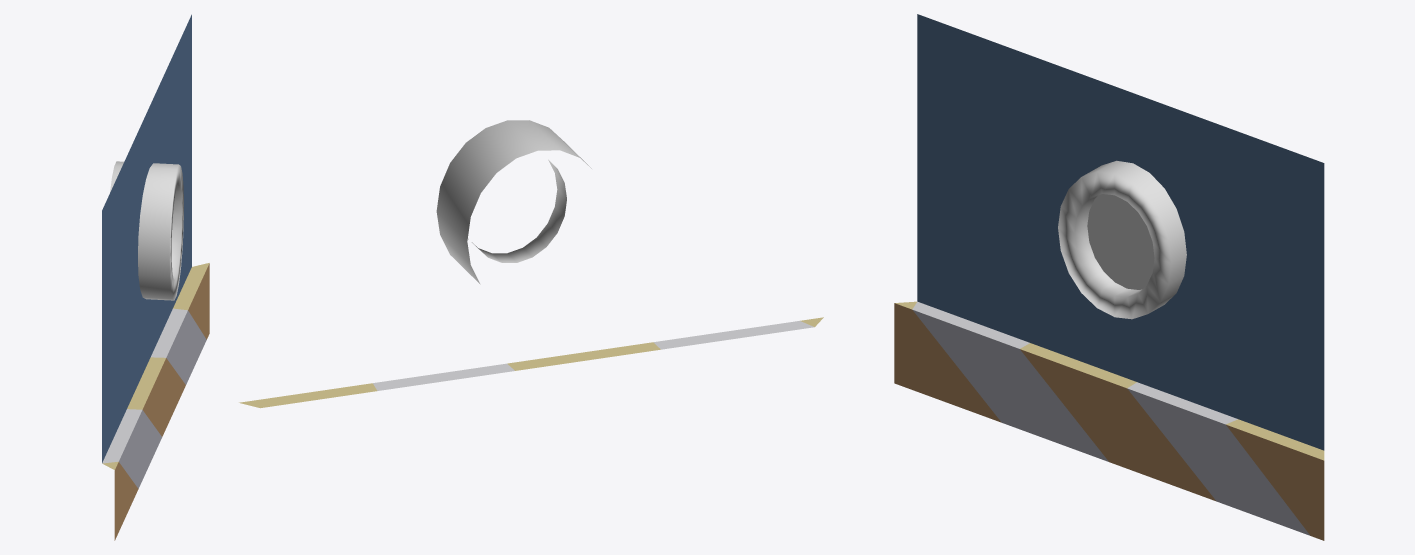
File: TrainStationDoor.glb
3 views of the same model, side by side, from view 1: azimuth 30°, elevation 25°; view 2: azimuth 150°, elevation 25°; view 3: azimuth 270°, elevation 25° (orthographic). The views are drawn at different scales.
Visible parts, largest first — view 1: TrainStationDoor; view 2: TrainStationDoor; view 3: TrainStationDoor.
Part boxes in pixels (x1=…): TrainStationDoor: x1=102, y1=14, x2=209, y2=540; TrainStationDoor: x1=239, y1=120, x2=823, y2=408; TrainStationDoor: x1=894, y1=14, x2=1324, y2=540.
Size of the model in its own units: 2.17 by 1.91 by 2.38.
